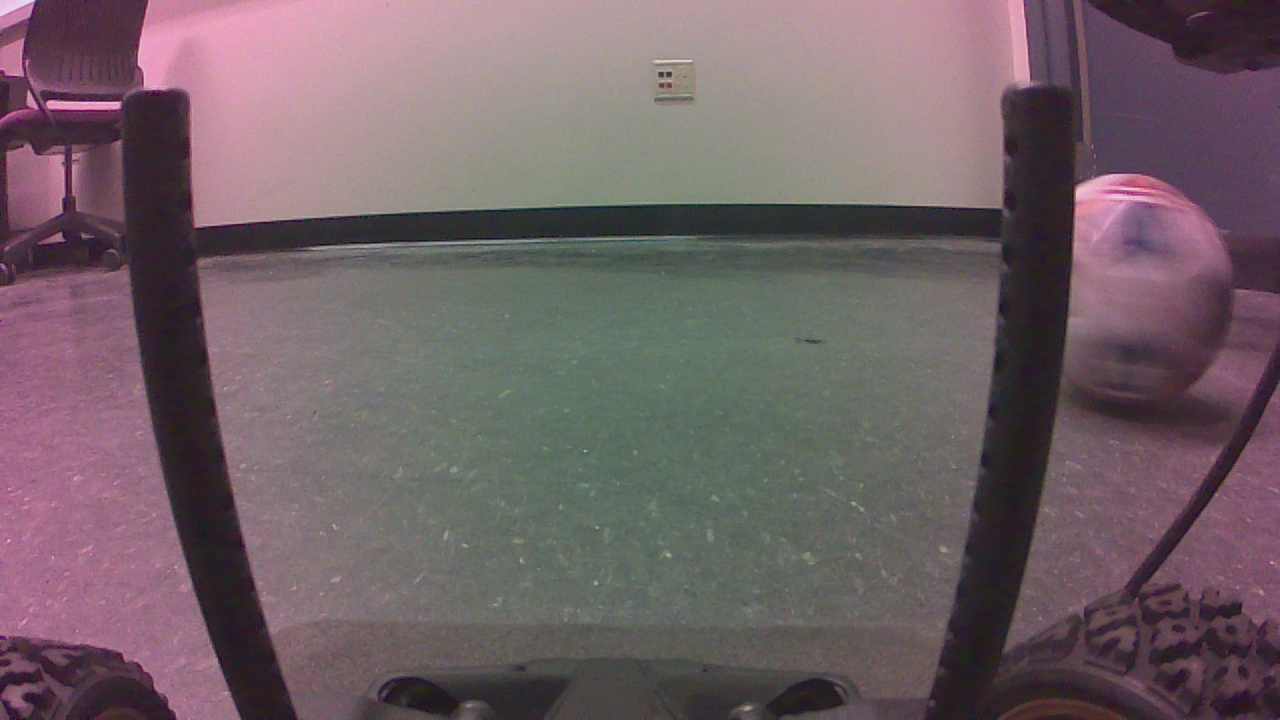ball: (1073, 174, 1223, 418)
